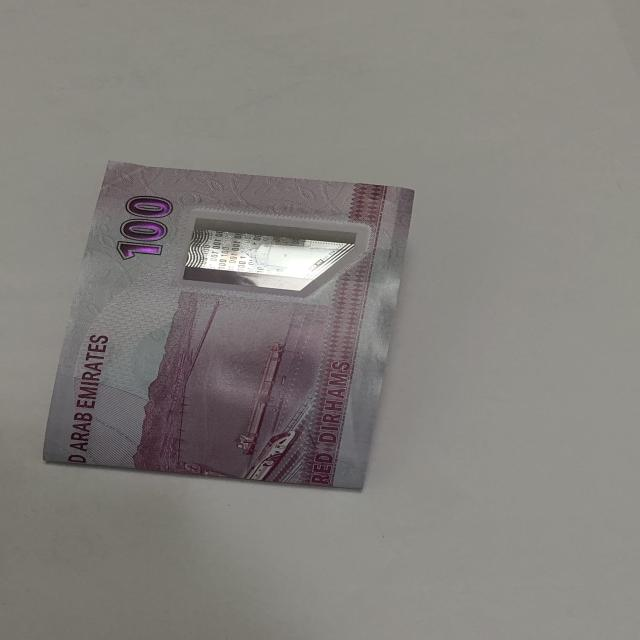1000_AED: (39, 162, 418, 494)
